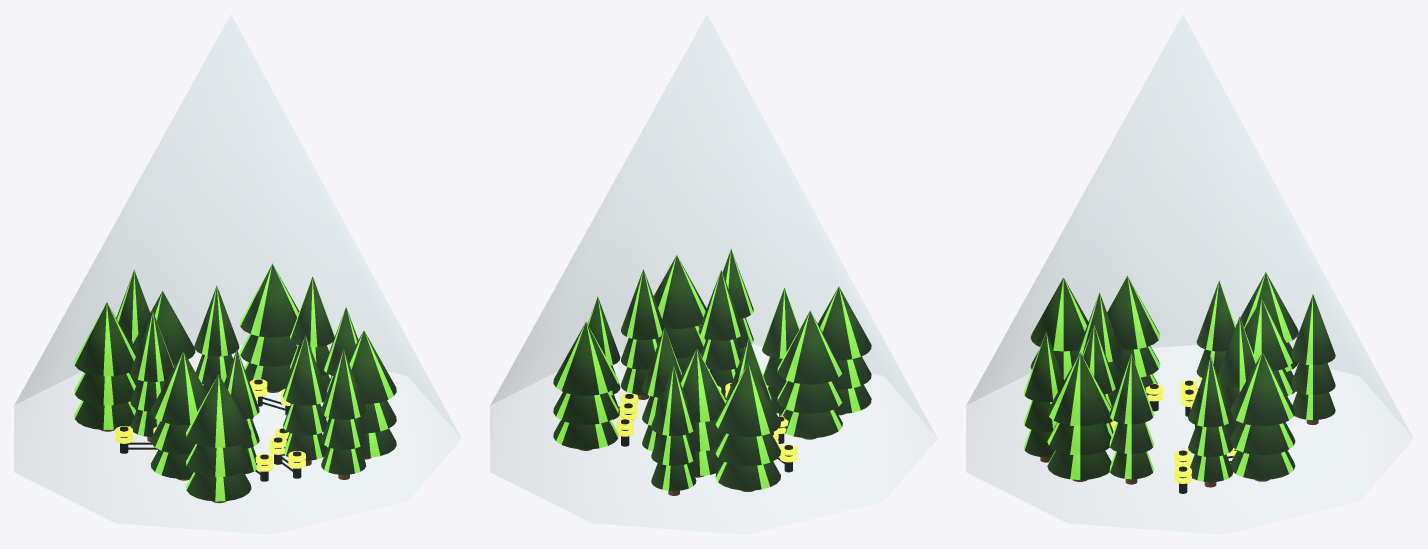
File: park3.glb
3 views of the same model, side by side, from view 1: azimuth 30°, elevation 25°; view 2: azimuth 150°, elevation 25°; view 3: azimuth 270°, elevation 25° (orthographic).
Parts seen in each view (by area): view 1: Forest Small2; view 2: Forest Small2; view 3: Forest Small2.
Boxes of the visible parts, left/top/right/bottom form: Forest Small2: left=14, top=15, right=460, bottom=534; Forest Small2: left=490, top=15, right=936, bottom=533; Forest Small2: left=966, top=15, right=1412, bottom=534.
Bounding box in the file's own units: 52.91 × 54.56 × 52.11.
